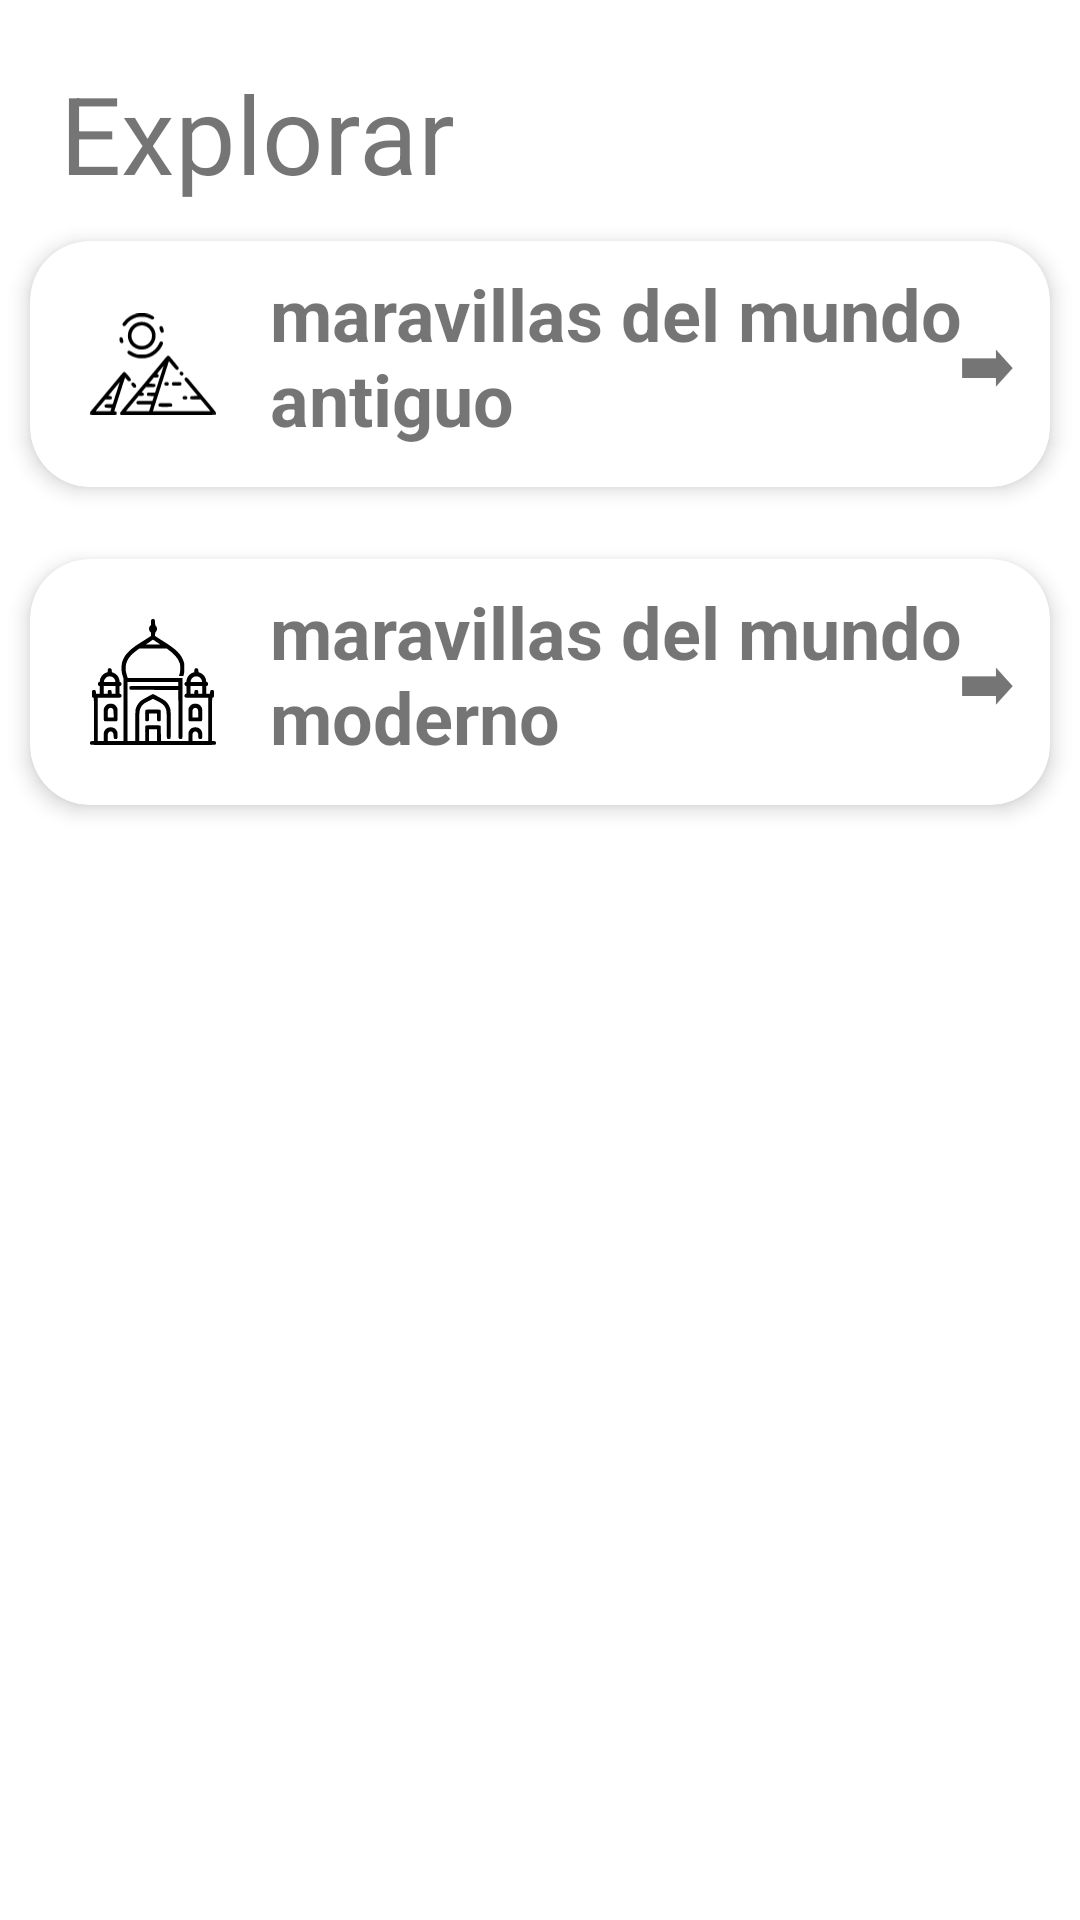

Icons on this 1080*1920 Android screen, each with the point to tap as point (x, y):
piramides: point (153, 364)
taj: point (153, 682)
